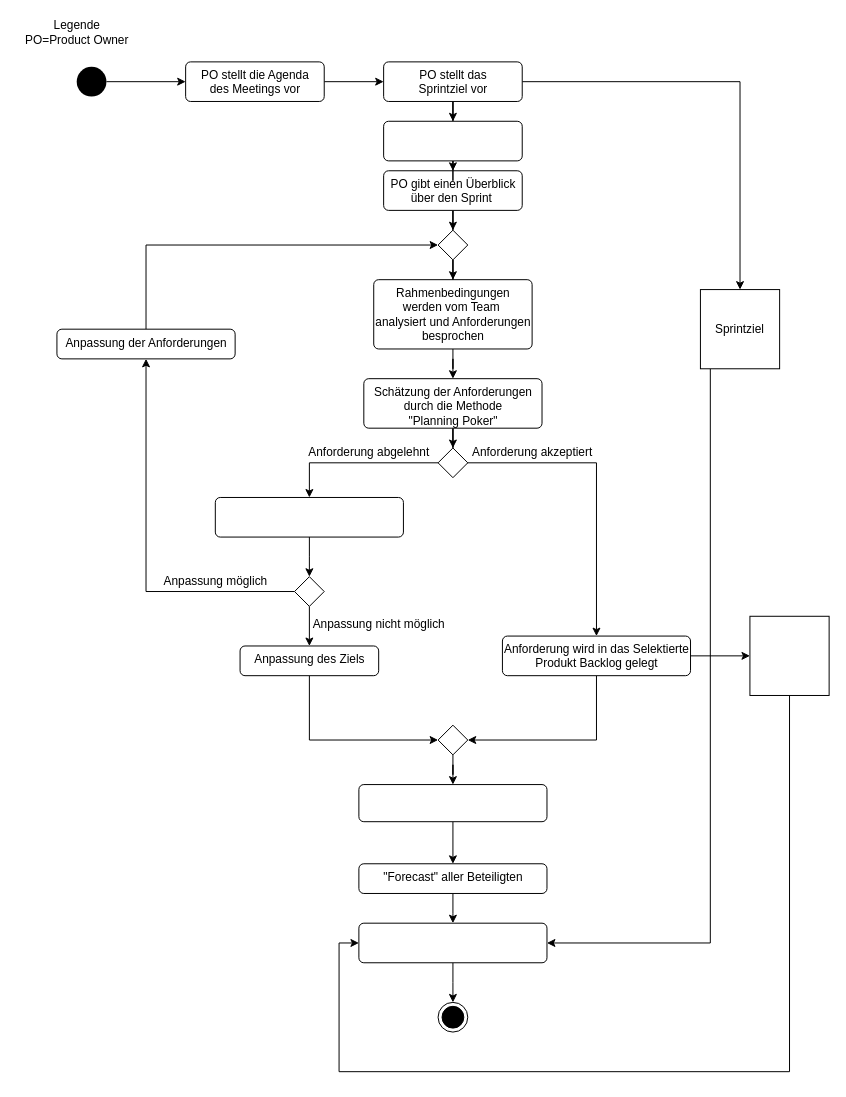
This 846x1097 diagram has some shape labels left out. Here are the shapes that lost their labels. From the top down, the centre of each, then its label:
point (452, 140): Kapazitäten ermitteln
point (308, 516): Anforderung wird in das Selektierte Produkt Backlog zurückgelegt
point (789, 655): Selektiertes Produkt Backlog
point (452, 803): Ergebnisse des vorherigen Sprints werden betrachtet
point (452, 942): Scrum Master dokumentiert alles im Tool "Confluence"
